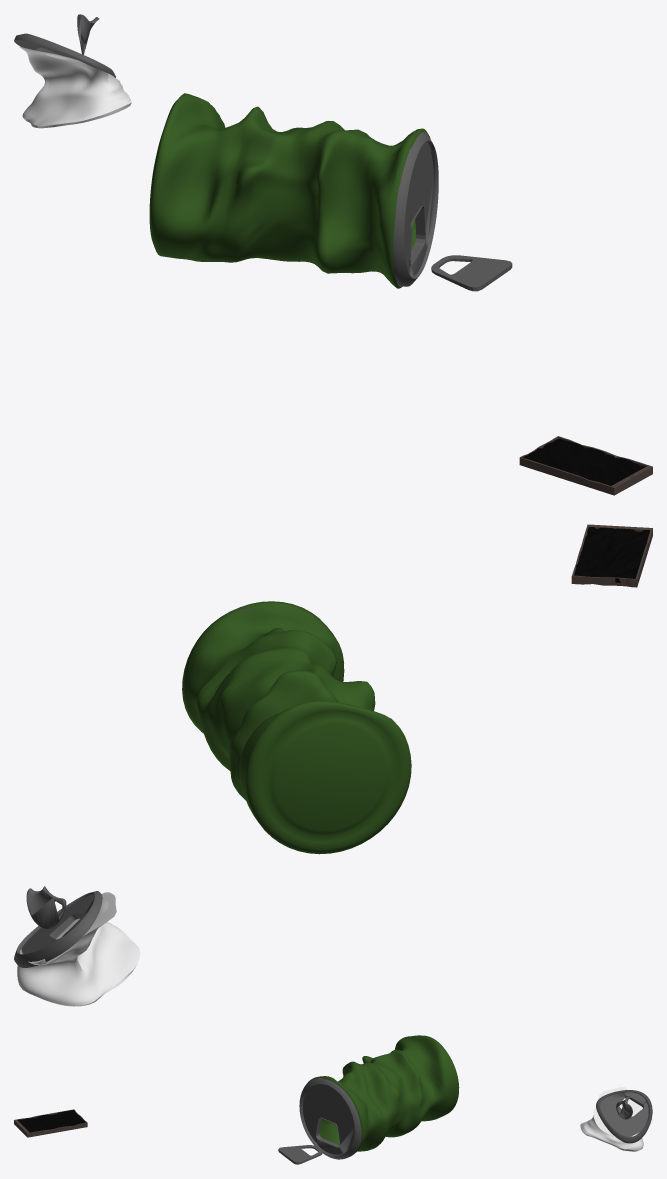
File: Lata amassada e cell quebrado.fbx
3 views of the same model, one above another, from view 1: azimuth 30°, elevation 25°; view 2: azimuth 150°, elevation 25°; view 3: azimuth 270°, elevation 25° (orthographic). The views are drawn at different scales.
Visible parts, largest first — view 1: Cylinder.001, Cylinder, Plane; view 2: Cylinder.001, Cylinder, Plane; view 3: Cylinder.001, Cylinder, Plane.
Part boxes in pixels (<box>): Cylinder.001: <box>149,93,512,291</box>; Cylinder: <box>14,14,131,128</box>; Plane: <box>519,436,652,495</box>; Cylinder.001: <box>182,601,411,854</box>; Cylinder: <box>14,886,140,1006</box>; Plane: <box>571,524,652,587</box>; Cylinder.001: <box>278,1035,459,1164</box>; Cylinder: <box>580,1087,652,1151</box>; Plane: <box>14,1109,87,1137</box>.
Size of the model in its own units: 551 by 323 by 2058.
